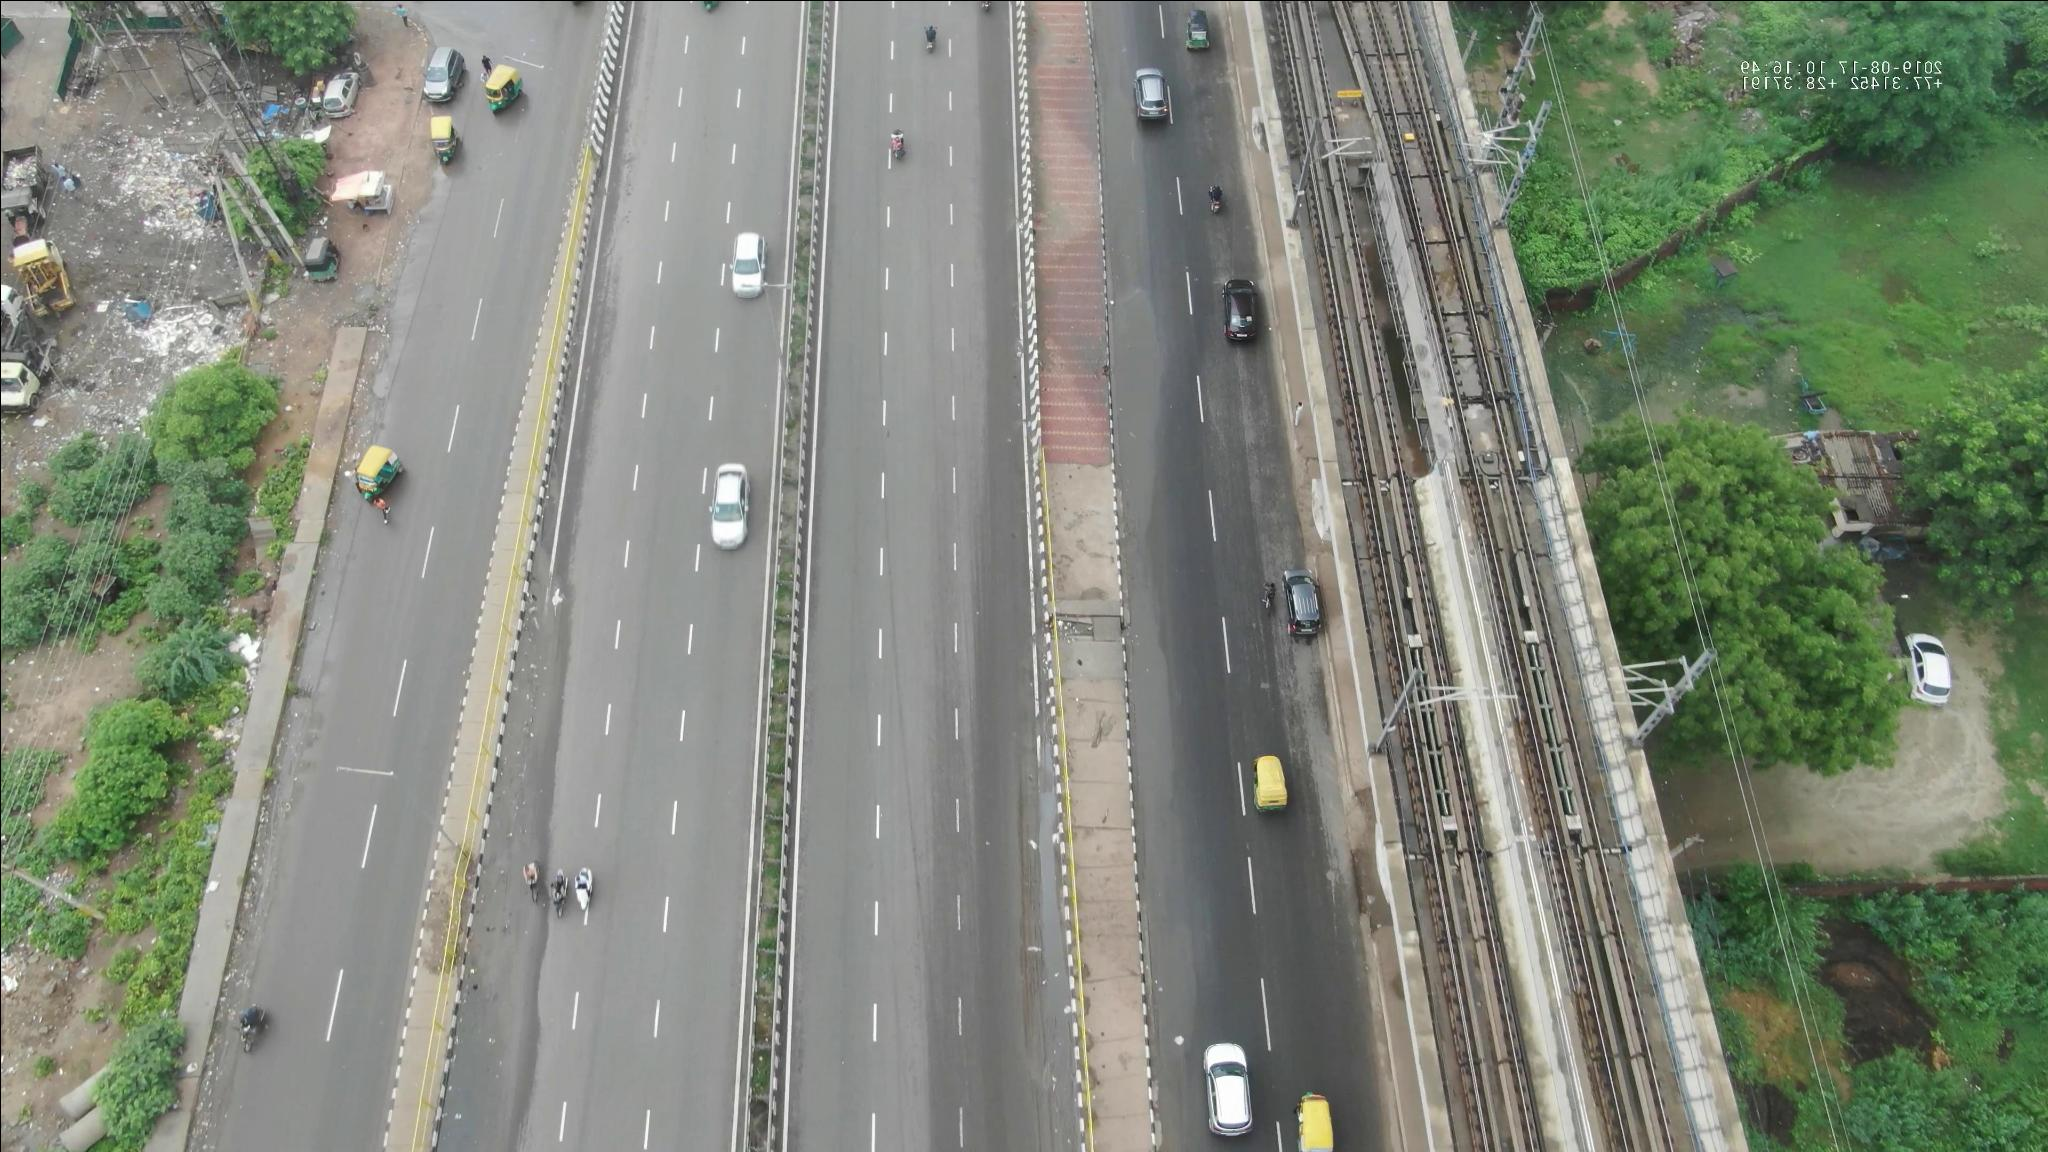Muddy_road: (1003, 791, 1070, 966)
